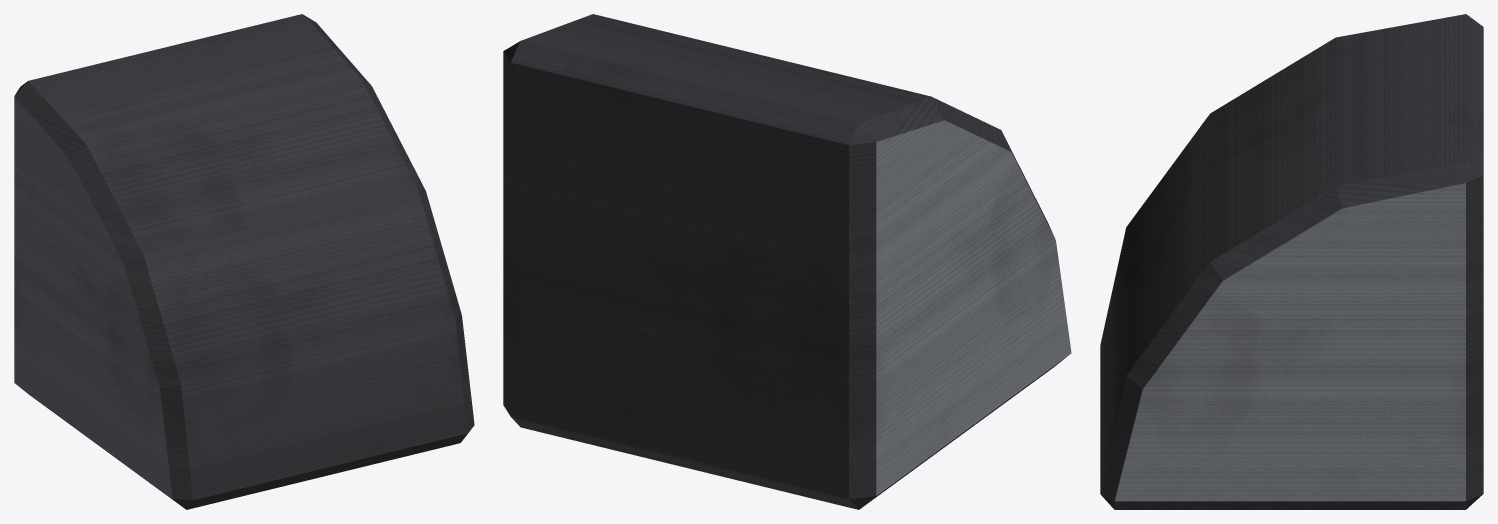
The model's file is R4B_RoundEdge_LOD1.glb.
3 views of the same model, side by side, from view 1: azimuth 30°, elevation 25°; view 2: azimuth 150°, elevation 25°; view 3: azimuth 270°, elevation 25° (orthographic). The views are drawn at different scales.
Parts seen in each view (by area): view 1: R4B_RoundEdge_LOD1; view 2: R4B_RoundEdge_LOD1; view 3: R4B_RoundEdge_LOD1.
Part boxes in pixels (x1,y1,x2,y2): R4B_RoundEdge_LOD1: [14, 14, 474, 509]; R4B_RoundEdge_LOD1: [503, 14, 1071, 509]; R4B_RoundEdge_LOD1: [1100, 14, 1483, 509].
Bounding box in the file's own units: 0.52 × 0.5153 × 0.5153.
Materials: 2 (2 with a texture image).
